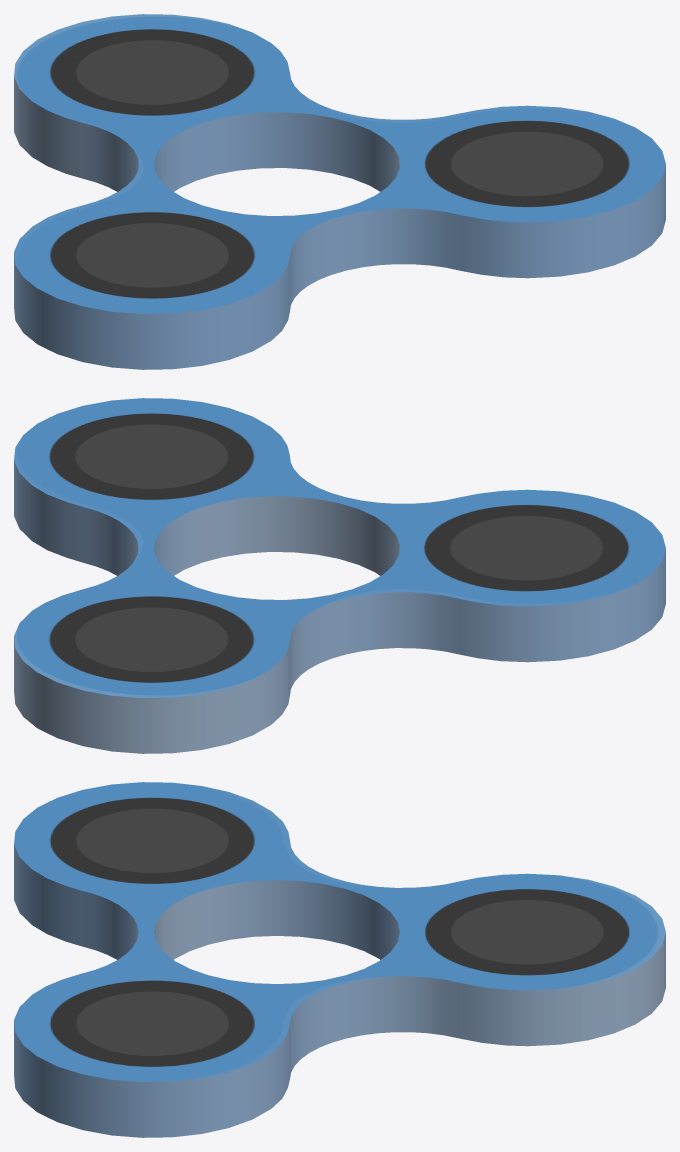
The model's file is spinner.FBX.
3 renders of one model, top to bottom at view 1: azimuth 30°, elevation 25°; view 2: azimuth 150°, elevation 25°; view 3: azimuth 270°, elevation 25°, orthographic.
Visible parts, largest first — view 1: Spinner; view 2: Spinner; view 3: Spinner.
Part boxes in pixels (bbox=[...]): Spinner: bbox=[14, 14, 665, 369]; Spinner: bbox=[14, 398, 665, 753]; Spinner: bbox=[14, 782, 665, 1137].
Size of the model in its own units: 80.8 by 7 by 74.21.
Materials: 1 (1 with a texture image).
